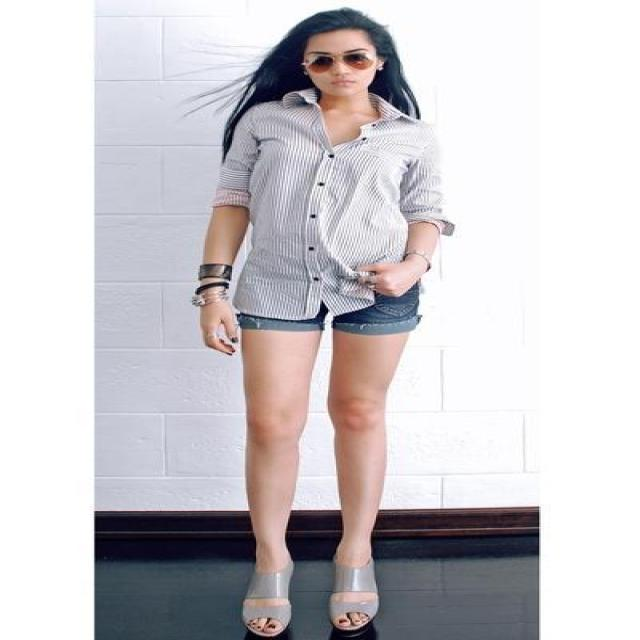shirt: (192, 91, 453, 324)
shoe: (243, 567, 378, 636)
shorts: (235, 280, 421, 335)
